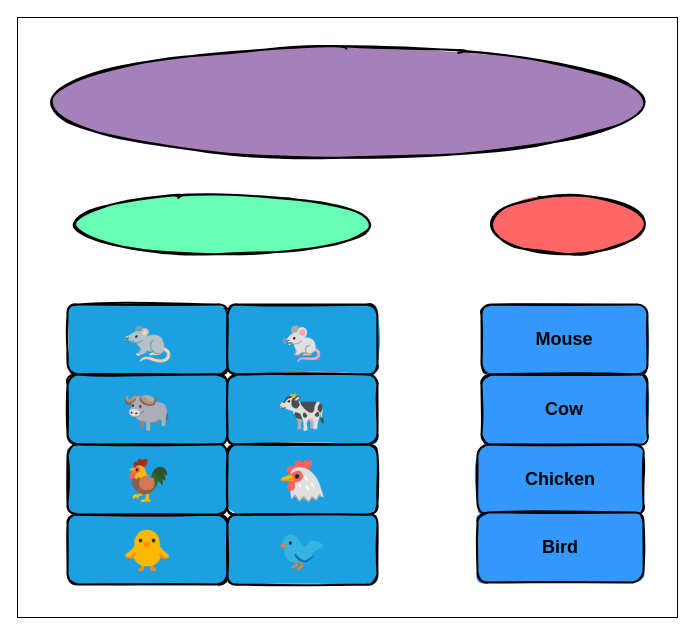
Some shapes in this 695 by 635 pixel diagram are drawn without their labels. The shapes that lost their labels are listed below. From the top down, each one's centre as x and y in pixels, then its label:
point (347, 102): Supervised Learning - Classification Based Problems
point (222, 224): Predictor
point (567, 224): Target
